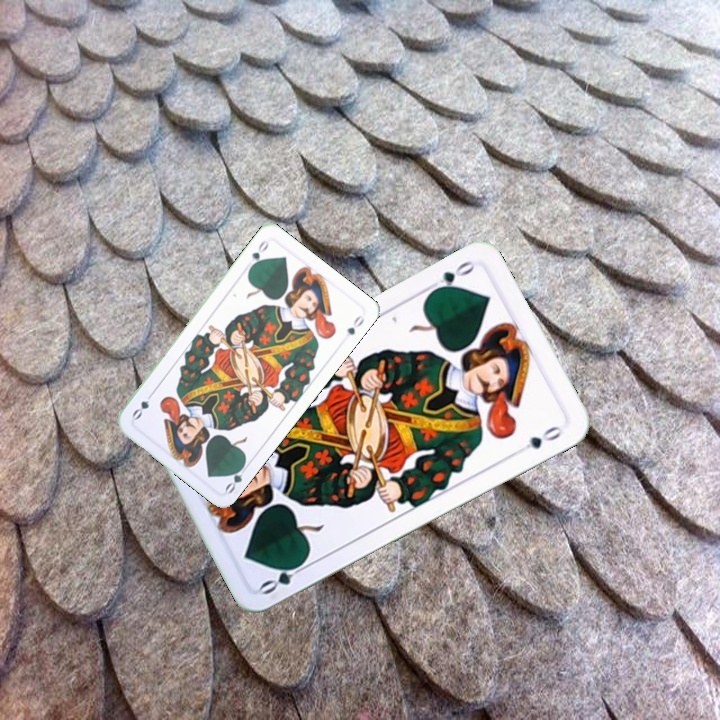GO: (256, 555, 312, 598), (424, 256, 478, 296), (221, 458, 252, 496), (245, 236, 271, 273)
